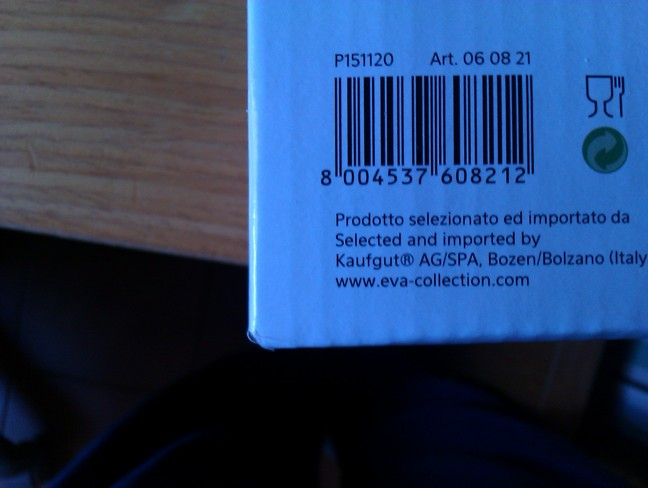barcode: (308, 73, 548, 192)
